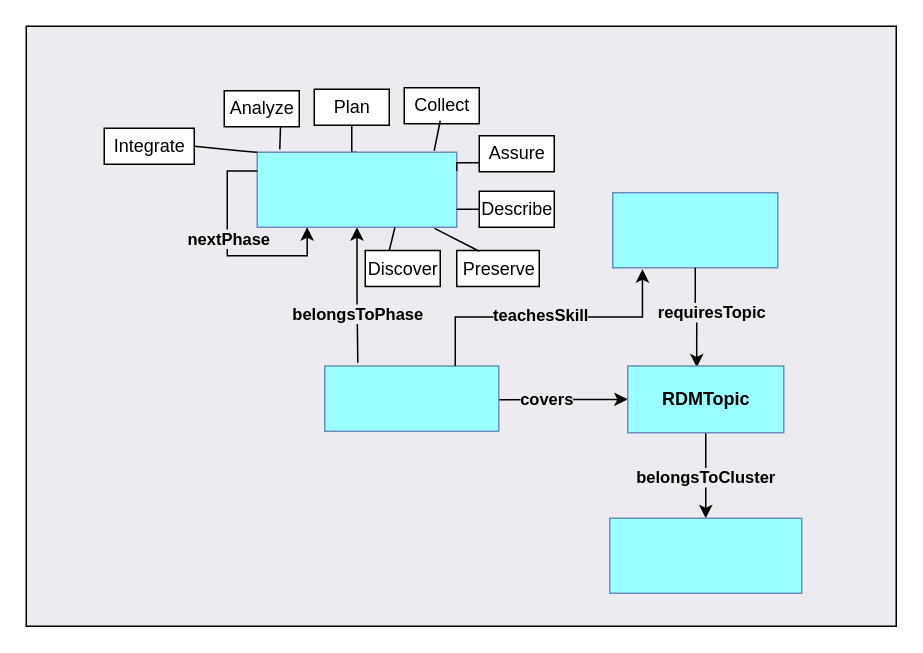
This 923x653 diagram has some shape labels left out. The shapes that lost their labels are listed below. From the top down, each one's centre as x and y in pixels, then its label:
At (356,189): "DataLifeCyclePhase".
At (694,229): "RDMSkill".
At (411,397): "RDMResource".
At (705,555): "RDMSubjectCluster".
